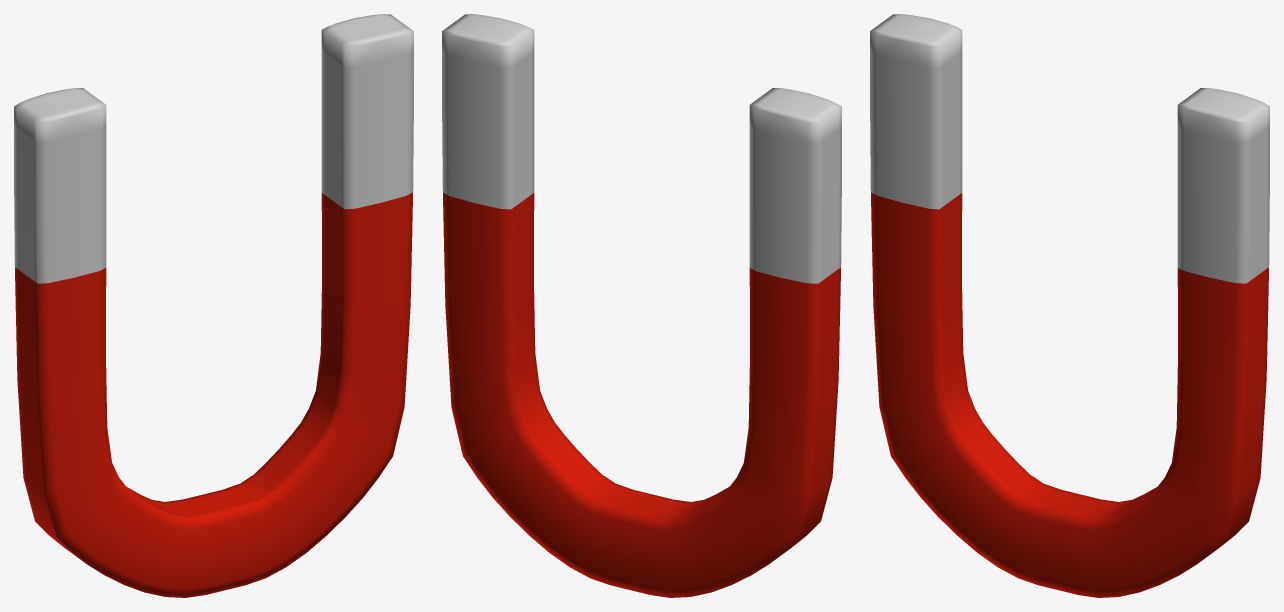
The model's file is magnet.fbx.
3 renders of one model, left to right at view 1: azimuth 30°, elevation 25°; view 2: azimuth 150°, elevation 25°; view 3: azimuth 330°, elevation 25°, orthographic.
Visible parts, largest first — view 1: magnet; view 2: magnet; view 3: magnet.
Part boxes in pixels (x1,y1,x2,y2): magnet: (14,14,413,597); magnet: (442,14,841,597); magnet: (870,14,1269,597).
Bounding box in the file's own units: 0.6336 × 0.83 × 0.0827.
